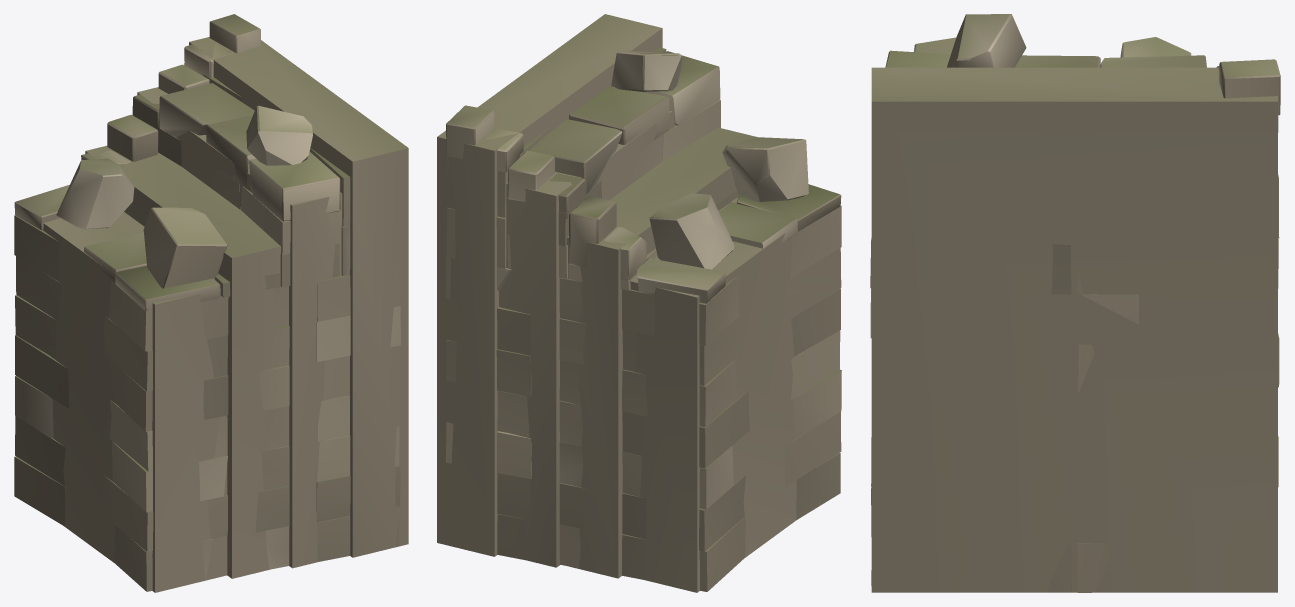
Rendered from theatre_seat_broken_3.glb.
3 renders of one model, left to right at view 1: azimuth 30°, elevation 25°; view 2: azimuth 150°, elevation 25°; view 3: azimuth 270°, elevation 25°, orthographic. The views are drawn at different scales.
Visible parts, largest first — view 1: theatre_seat_broken_3_far, theatre_seat_broken_3; view 2: theatre_seat_broken_3_far, theatre_seat_broken_3; view 3: theatre_seat_broken_3_far, theatre_seat_broken_3.
Boxes of the visible parts, bbox=[...] form: theatre_seat_broken_3_far: bbox=[43, 37, 408, 592]; theatre_seat_broken_3: bbox=[14, 14, 400, 591]; theatre_seat_broken_3_far: bbox=[437, 14, 797, 592]; theatre_seat_broken_3: bbox=[445, 47, 841, 591]; theatre_seat_broken_3_far: bbox=[871, 67, 1277, 592]; theatre_seat_broken_3: bbox=[870, 14, 1280, 592].
Bounding box in the file's own units: 12.39 × 20.08 × 14.32.
